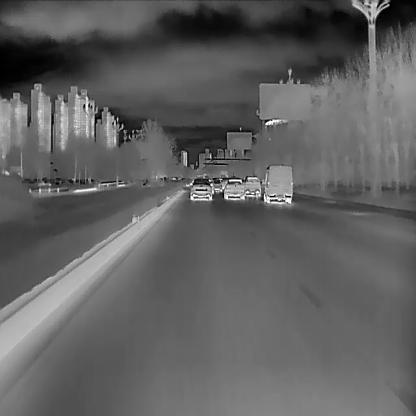car: (264, 165, 292, 202), (189, 179, 211, 200), (242, 174, 260, 198), (223, 179, 244, 199)
